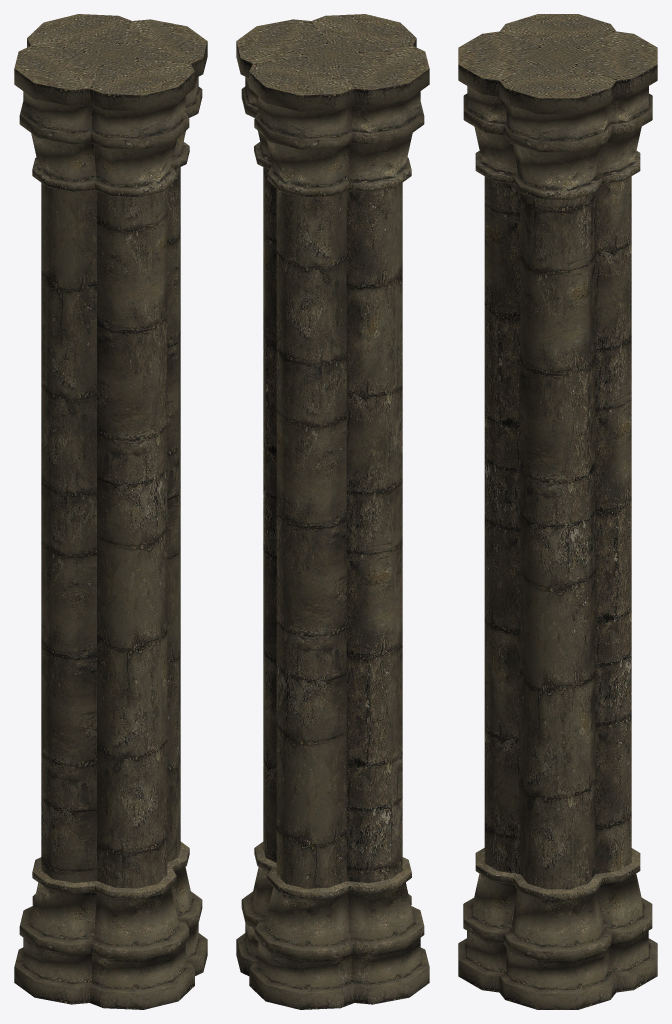
File: NC_pillar_4m.DAE
3 renders of one model, left to right at view 1: azimuth 30°, elevation 25°; view 2: azimuth 150°, elevation 25°; view 3: azimuth 270°, elevation 25°, orthographic.
Visible parts, largest first — view 1: NC_pillar_4m; view 2: NC_pillar_4m; view 3: NC_pillar_4m.
Part boxes in pixels (<box>): NC_pillar_4m: <box>14,14,207,1009</box>; NC_pillar_4m: <box>236,14,429,1009</box>; NC_pillar_4m: <box>458,14,657,1009</box>.
Size of the model in its own units: 0.7935 by 0.7942 by 4.01.
